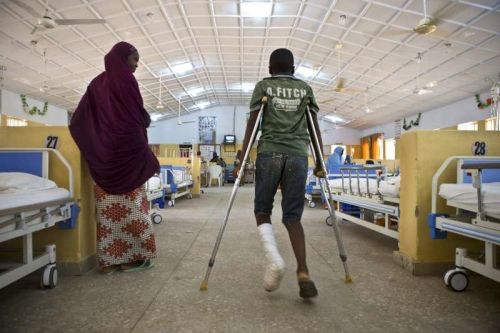crutches: (201, 48, 352, 298)
